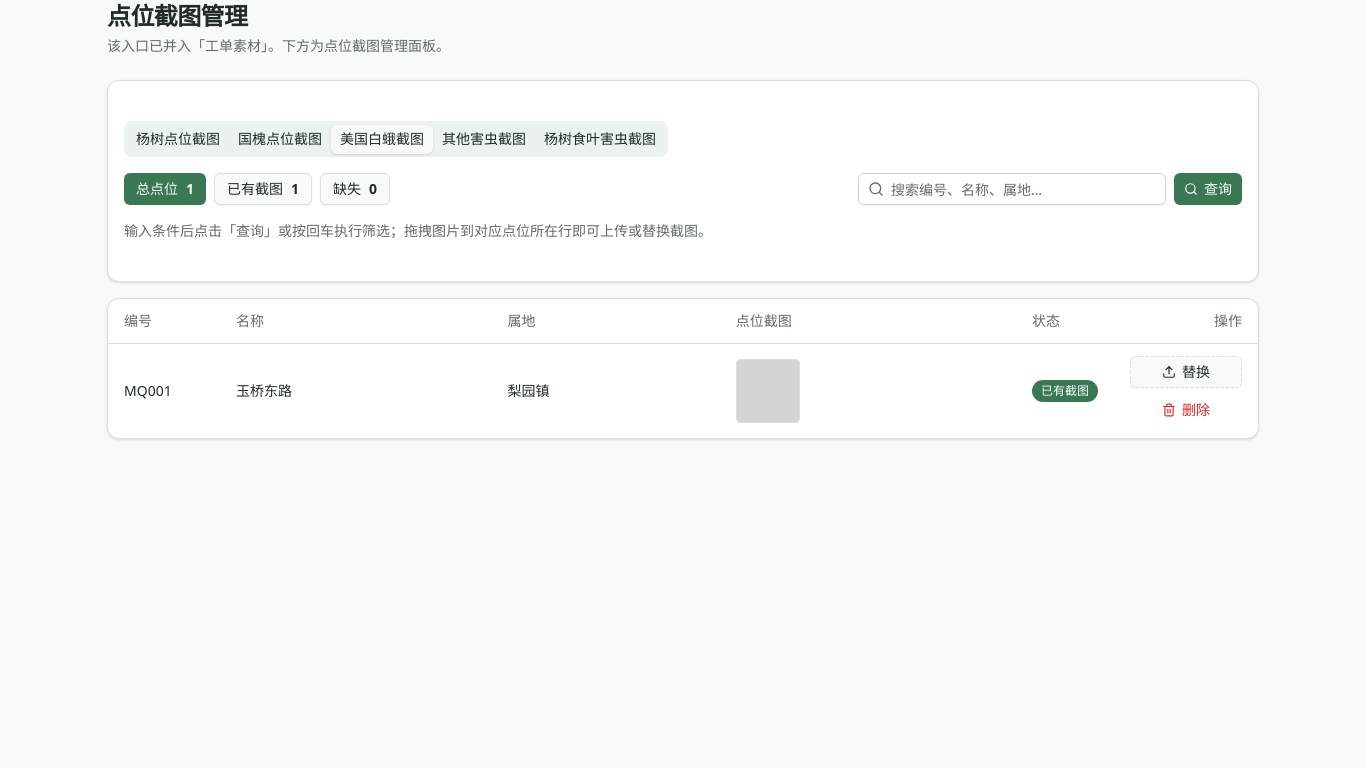
Test: PointScreenshotView › 删除已有截图前二次确认，成功后刷新状态并回收 objectURL
Click the button with test id "point-screenshot-delete-MQ001". click: (1186, 410)
box: [1130,394,1242,426]
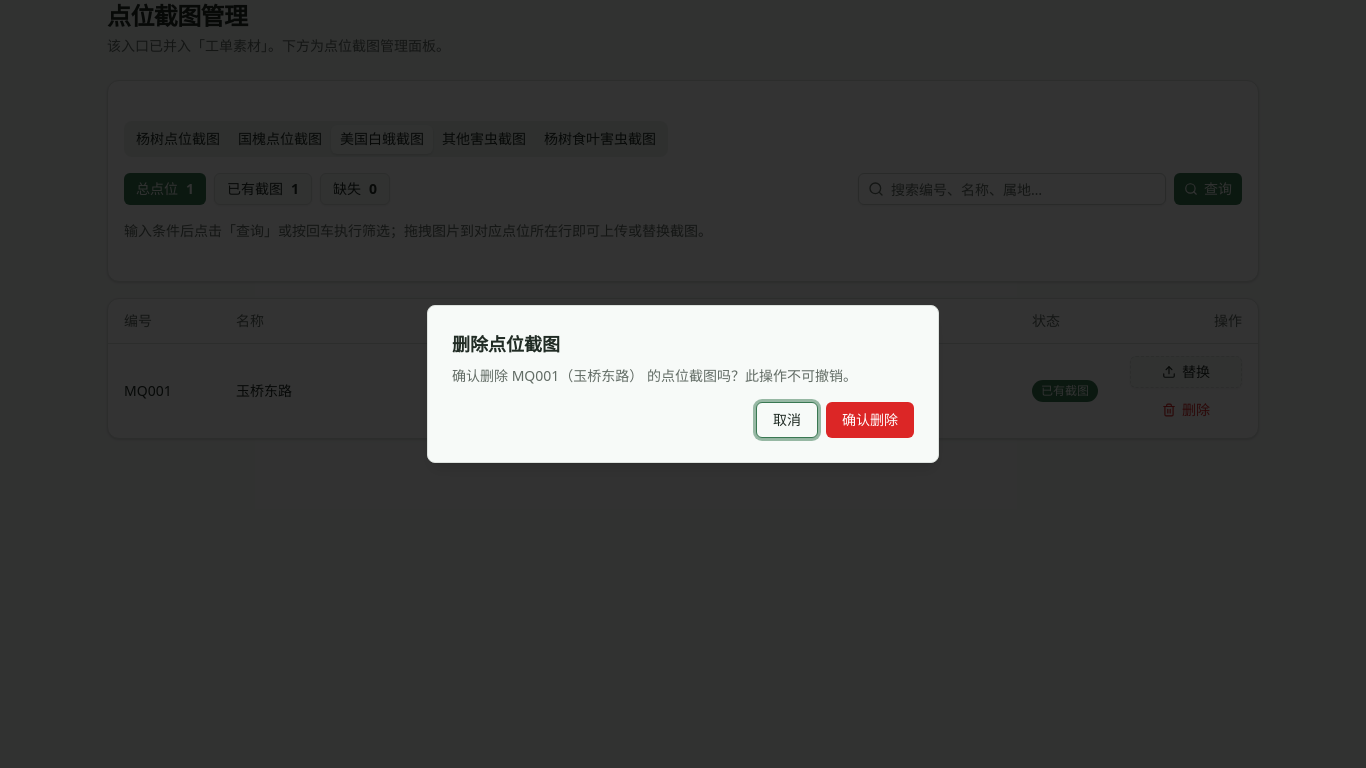
Expected: the text "确认删除 MQ001" is shown, [452,366,857,385]
Click the button with test id "confirm-dialog-confirm". click: (870, 420)
box: [826,402,914,438]
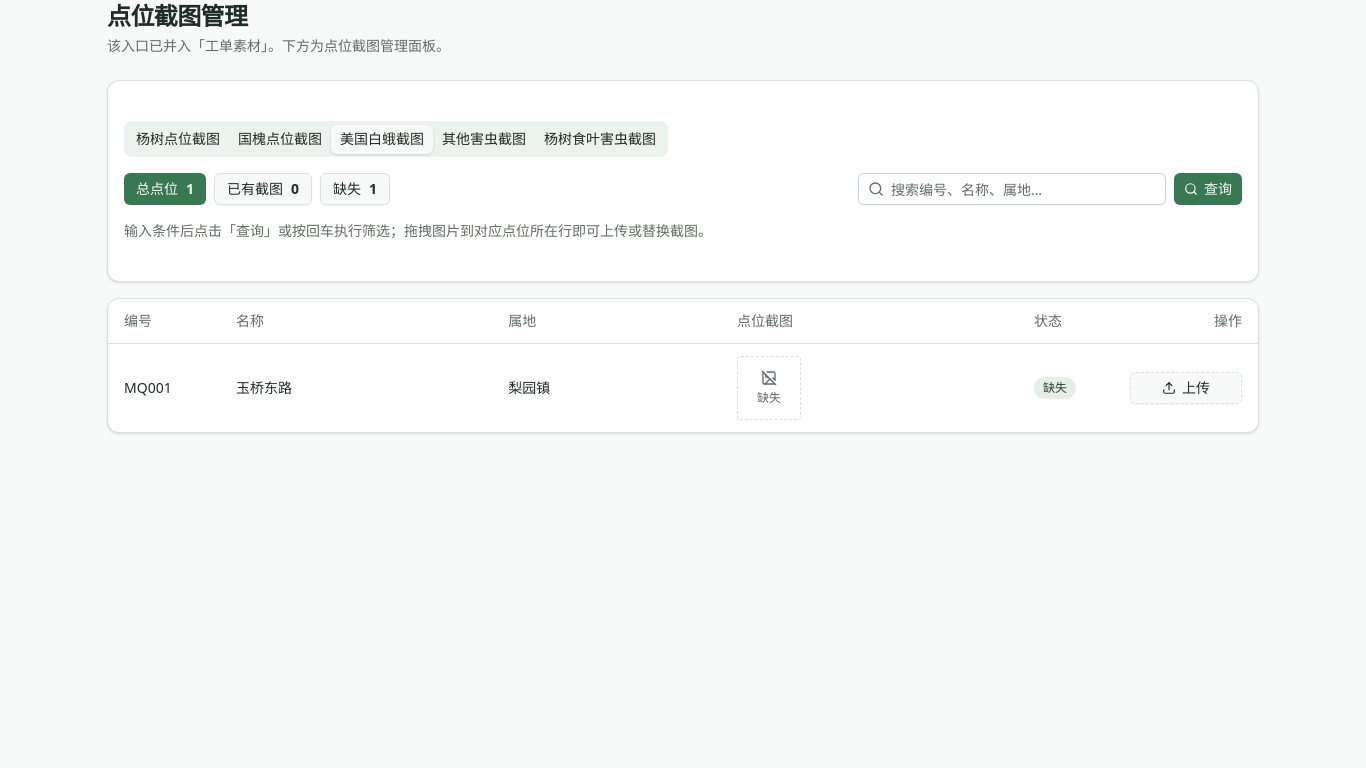
Expected: the button with test id "point-screenshot-missing" shows "1", [320,173,390,205]
